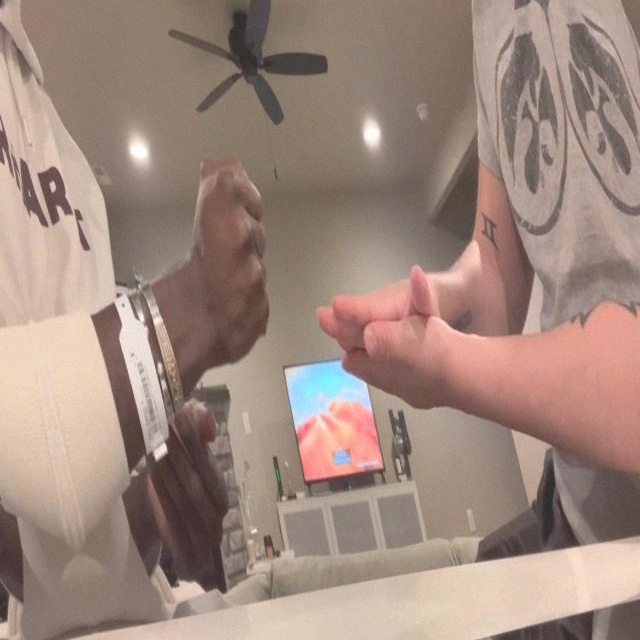Paper: (308, 261, 451, 364)
Rock: (173, 149, 293, 366)
